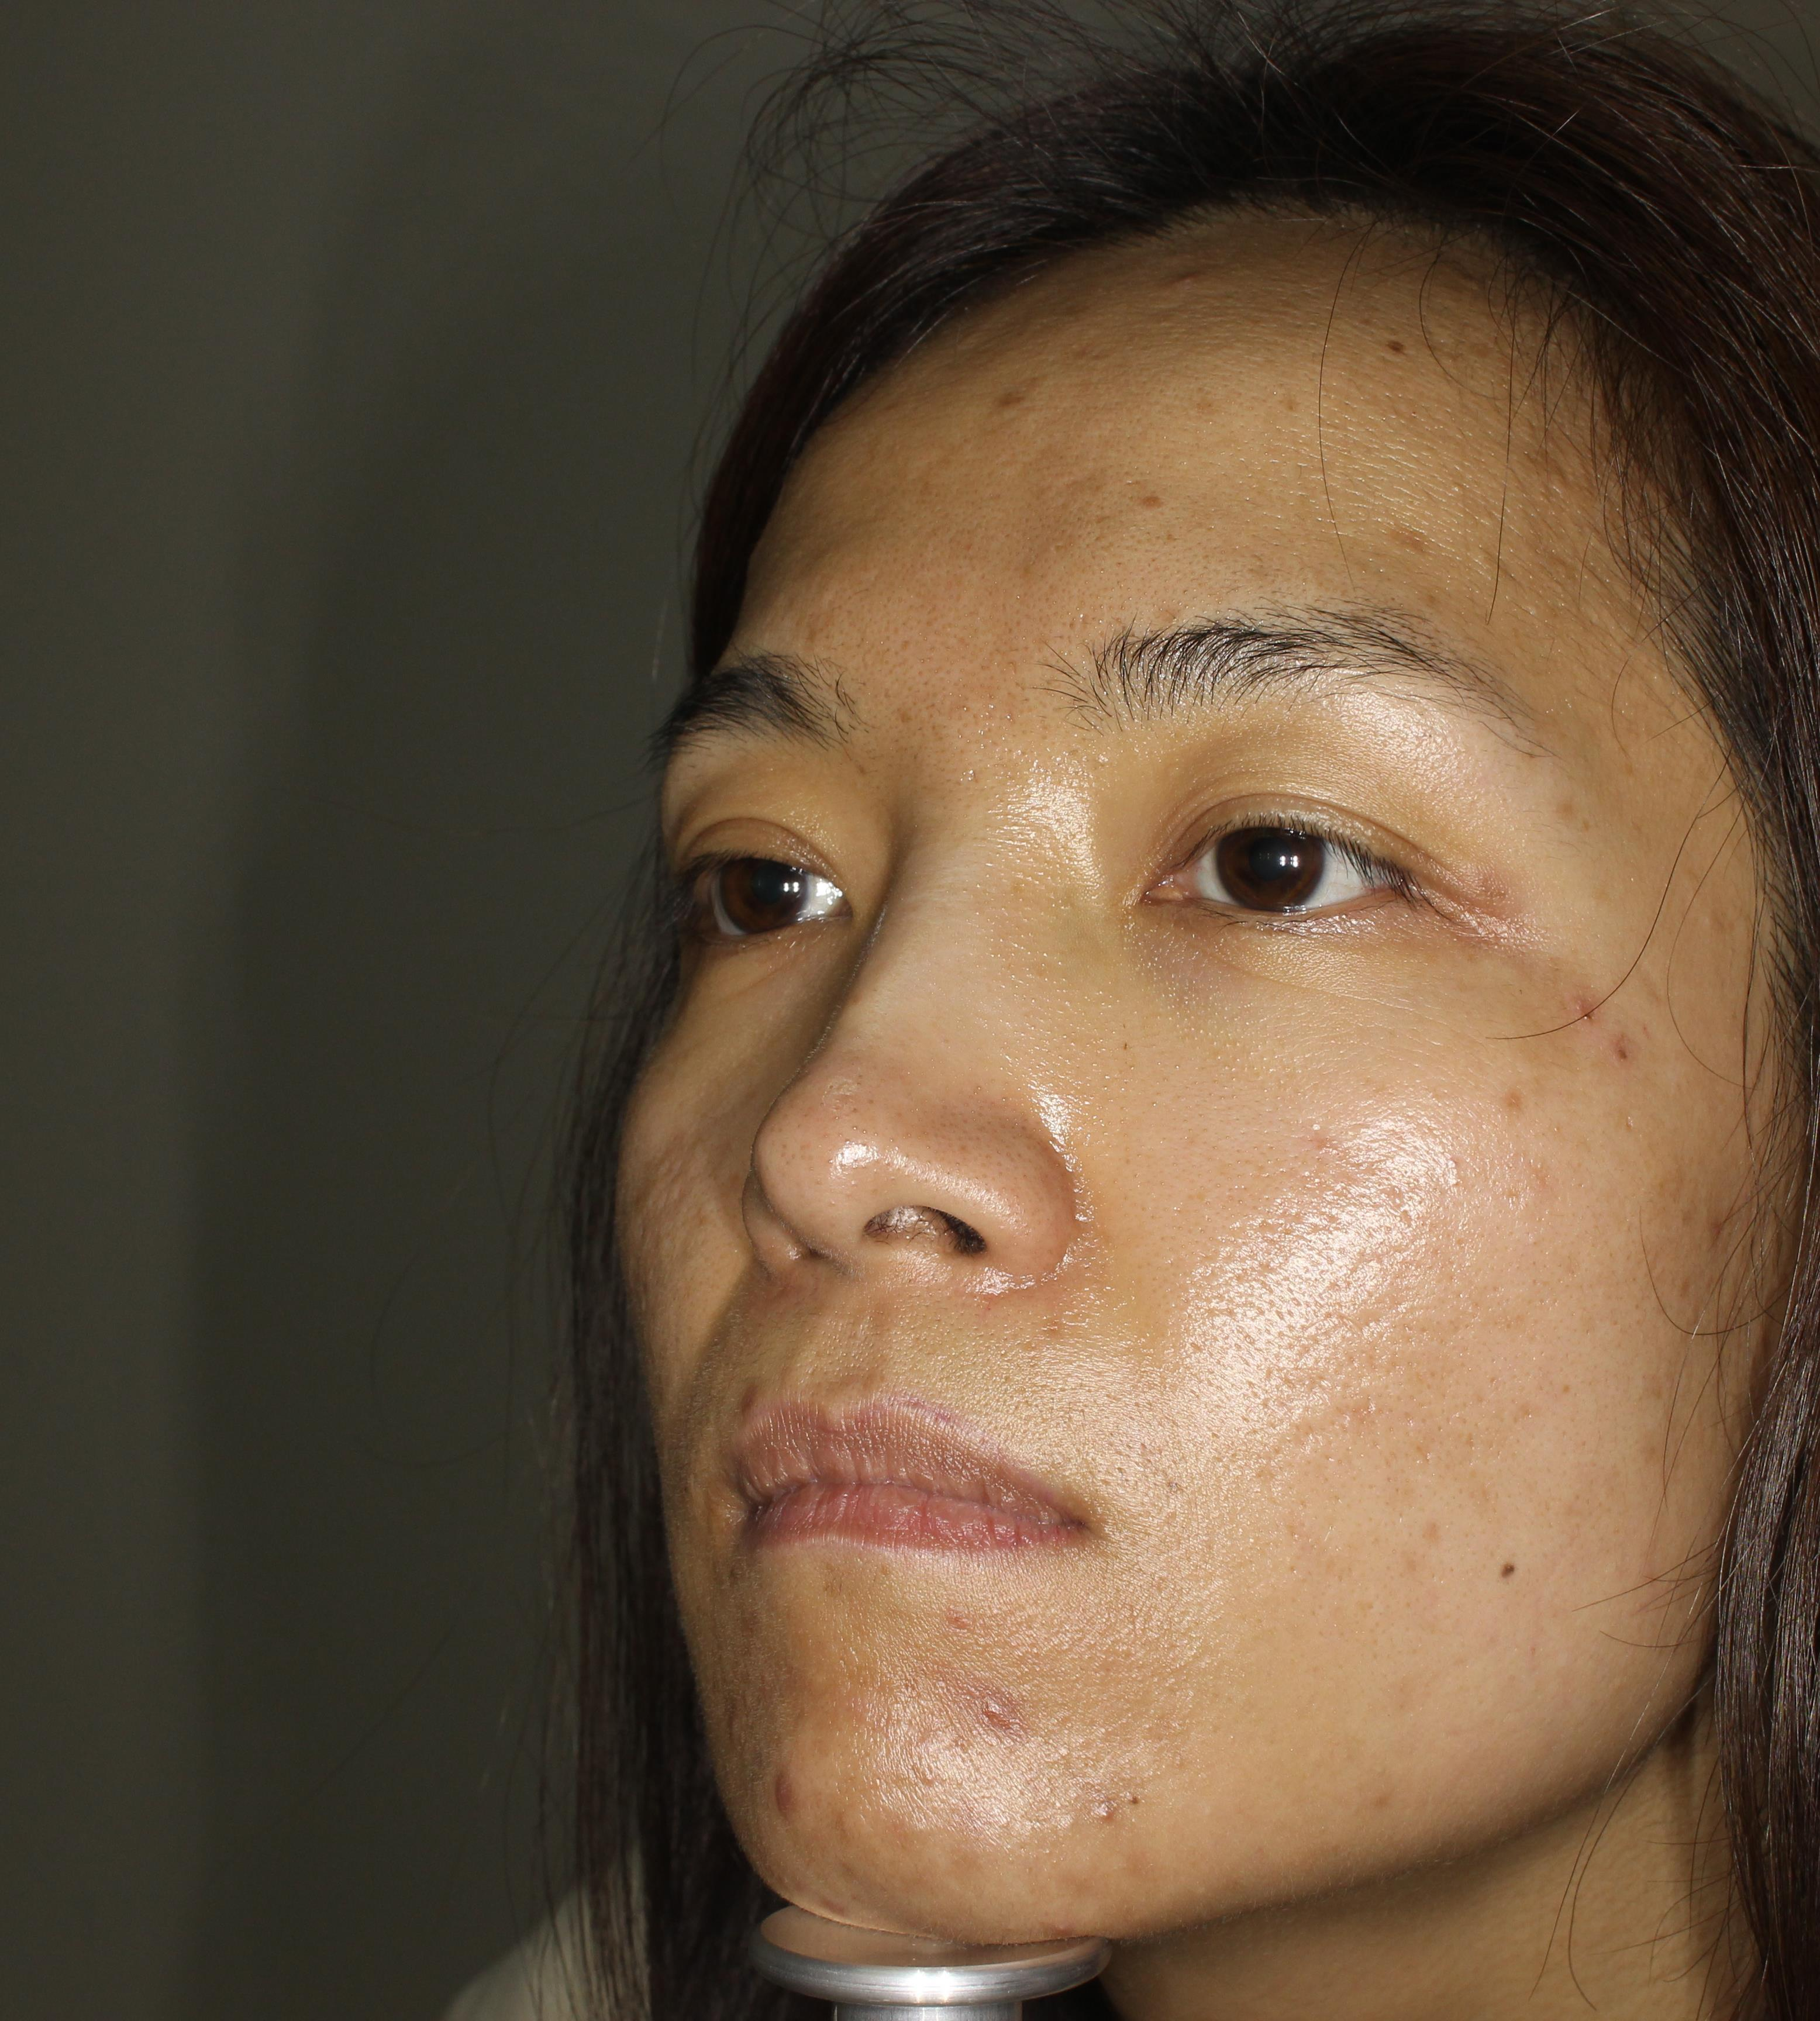fore: (961, 1679, 1042, 1773), (1170, 246, 1219, 313), (780, 1759, 817, 1845)
